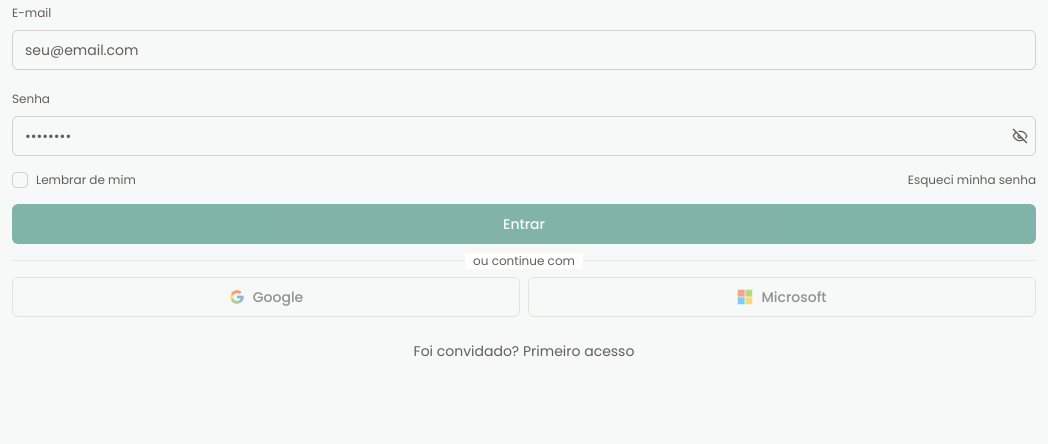
LoginForm › mostra mensagem de falha de rede quando o fetch rejeita
The width and height of the screenshot is (1048, 444).
Type "user@teste.dev" into the field labelled "E-mail" at (524,50), box x1=12 y1=30 x2=1036 y2=70
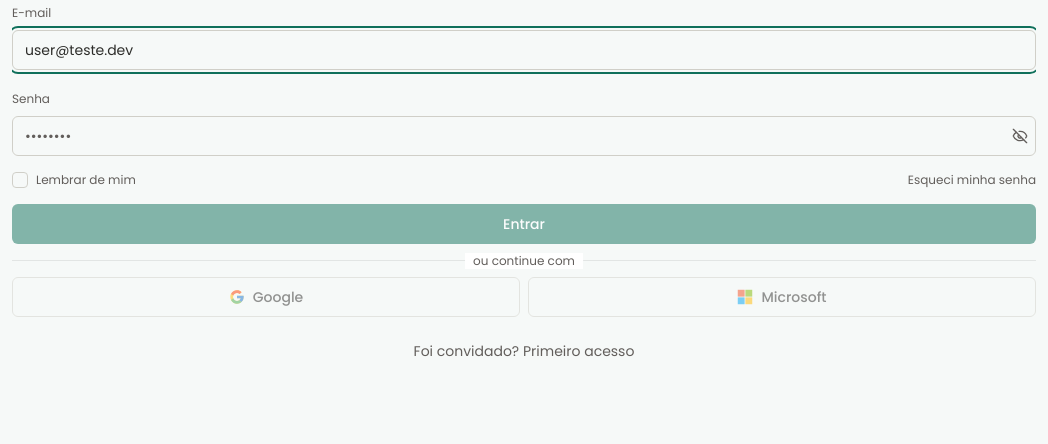
Type "senha123" into the password field labelled "Senha" at (524,136), box x1=12 y1=116 x2=1036 y2=156
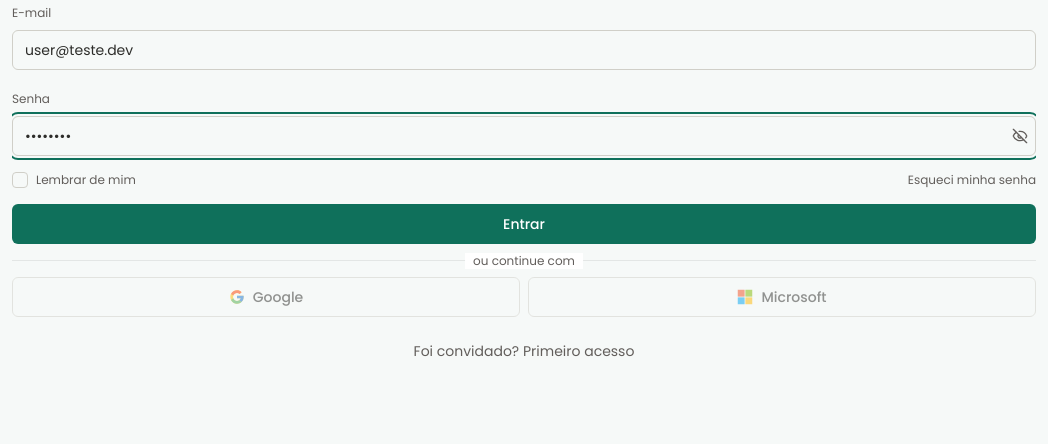
Click the button "Entrar" at (524,224), box x1=12 y1=204 x2=1036 y2=244
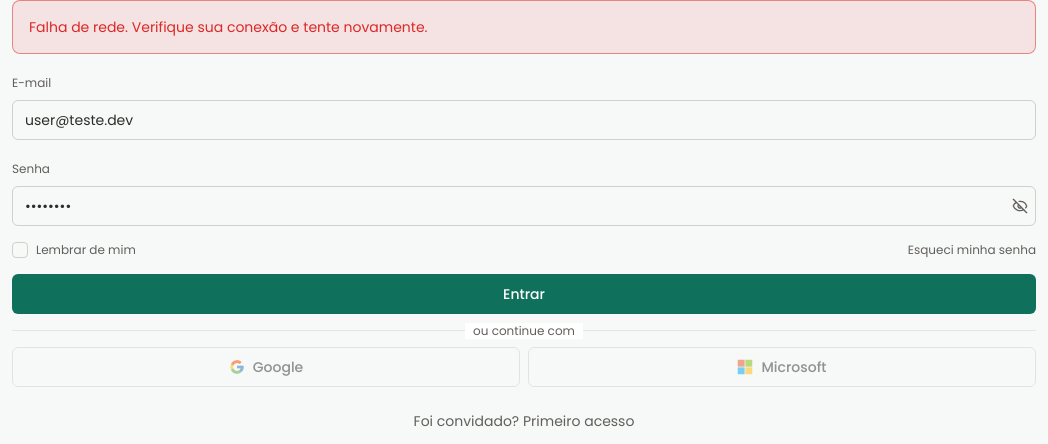
Result: the text "Falha de rede. Verifique sua conexão e tente novamente." is shown at x1=29 y1=17 x2=428 y2=37
